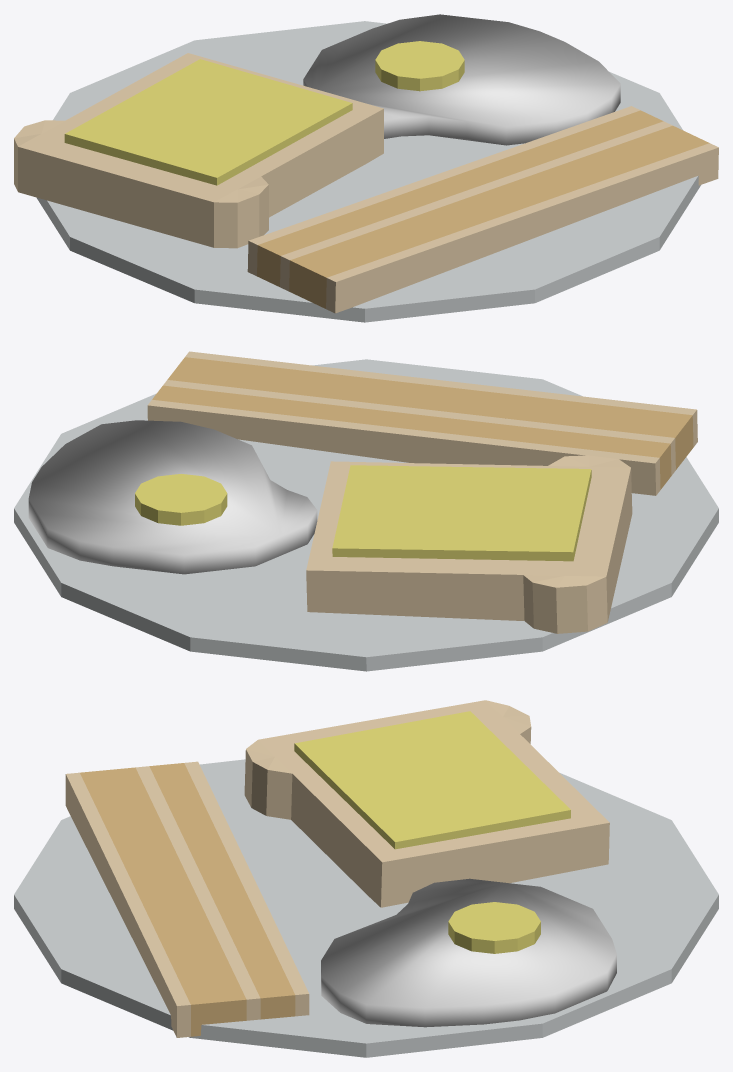
Rendered from breakfast.fbx.
3 views of the same model, one above another, from view 1: azimuth 30°, elevation 25°; view 2: azimuth 150°, elevation 25°; view 3: azimuth 270°, elevation 25° (orthographic). The views are drawn at different scales.
Visible parts, largest first — view 1: model1:mesh1294553331, model1:mesh736332684, model1:mesh1378364260, model1:mesh1544114982, model1:mesh819459327, model1:mesh1955606126, model1:mesh1846327215, model1:mesh1238919241, model1:mesh1844415629, model1:mesh1426239630; view 2: model1:mesh1294553331, model1:mesh1378364260, model1:mesh736332684, model1:mesh1544114982, model1:mesh1955606126, model1:mesh1426239630, model1:mesh1846327215, model1:mesh1238919241, model1:mesh819459327, model1:mesh1844415629; view 3: model1:mesh1294553331, model1:mesh1378364260, model1:mesh736332684, model1:mesh1544114982, model1:mesh1955606126, model1:mesh1846327215, model1:mesh819459327, model1:mesh1238919241, model1:mesh1844415629, model1:mesh1426239630.
Boxes of the visible parts, left/top/right/bottom form: model1:mesh1294553331: left=37, top=21, right=700, bottom=322; model1:mesh736332684: left=14, top=53, right=383, bottom=248; model1:mesh1378364260: left=303, top=14, right=620, bottom=145; model1:mesh1544114982: left=64, top=59, right=352, bottom=185; model1:mesh819459327: left=326, top=143, right=718, bottom=313; model1:mesh1955606126: left=289, top=125, right=709, bottom=308; model1:mesh1846327215: left=257, top=110, right=663, bottom=286; model1:mesh1238919241: left=375, top=41, right=464, bottom=91; model1:mesh1844415629: left=280, top=121, right=672, bottom=291; model1:mesh1426239630: left=247, top=106, right=640, bottom=276; model1:mesh1294553331: left=14, top=359, right=718, bottom=671; model1:mesh1378364260: left=28, top=420, right=317, bottom=574; model1:mesh736332684: left=306, top=455, right=632, bottom=633; model1:mesh1544114982: left=332, top=465, right=591, bottom=561; model1:mesh1955606126: left=167, top=357, right=693, bottom=469; model1:mesh1426239630: left=147, top=399, right=660, bottom=495; model1:mesh1846327215: left=152, top=385, right=671, bottom=489; model1:mesh1238919241: left=135, top=474, right=227, bottom=525; model1:mesh819459327: left=185, top=351, right=697, bottom=446; model1:mesh1844415629: left=163, top=380, right=675, bottom=475; model1:mesh1294553331: left=14, top=759, right=718, bottom=1057; model1:mesh1378364260: left=321, top=878, right=616, bottom=1027; model1:mesh736332684: left=244, top=700, right=609, bottom=907; model1:mesh1544114982: left=294, top=711, right=570, bottom=849; model1:mesh1955606126: left=80, top=767, right=246, bottom=1036; model1:mesh1846327215: left=149, top=763, right=295, bottom=1019; model1:mesh819459327: left=65, top=772, right=190, bottom=1037; model1:mesh1238919241: left=448, top=902, right=540, bottom=953; model1:mesh1844415629: left=135, top=766, right=260, bottom=1020; model1:mesh1426239630: left=184, top=761, right=309, bottom=1016.
Size of the model in its own units: 41.49 by 4.76 by 41.49.
